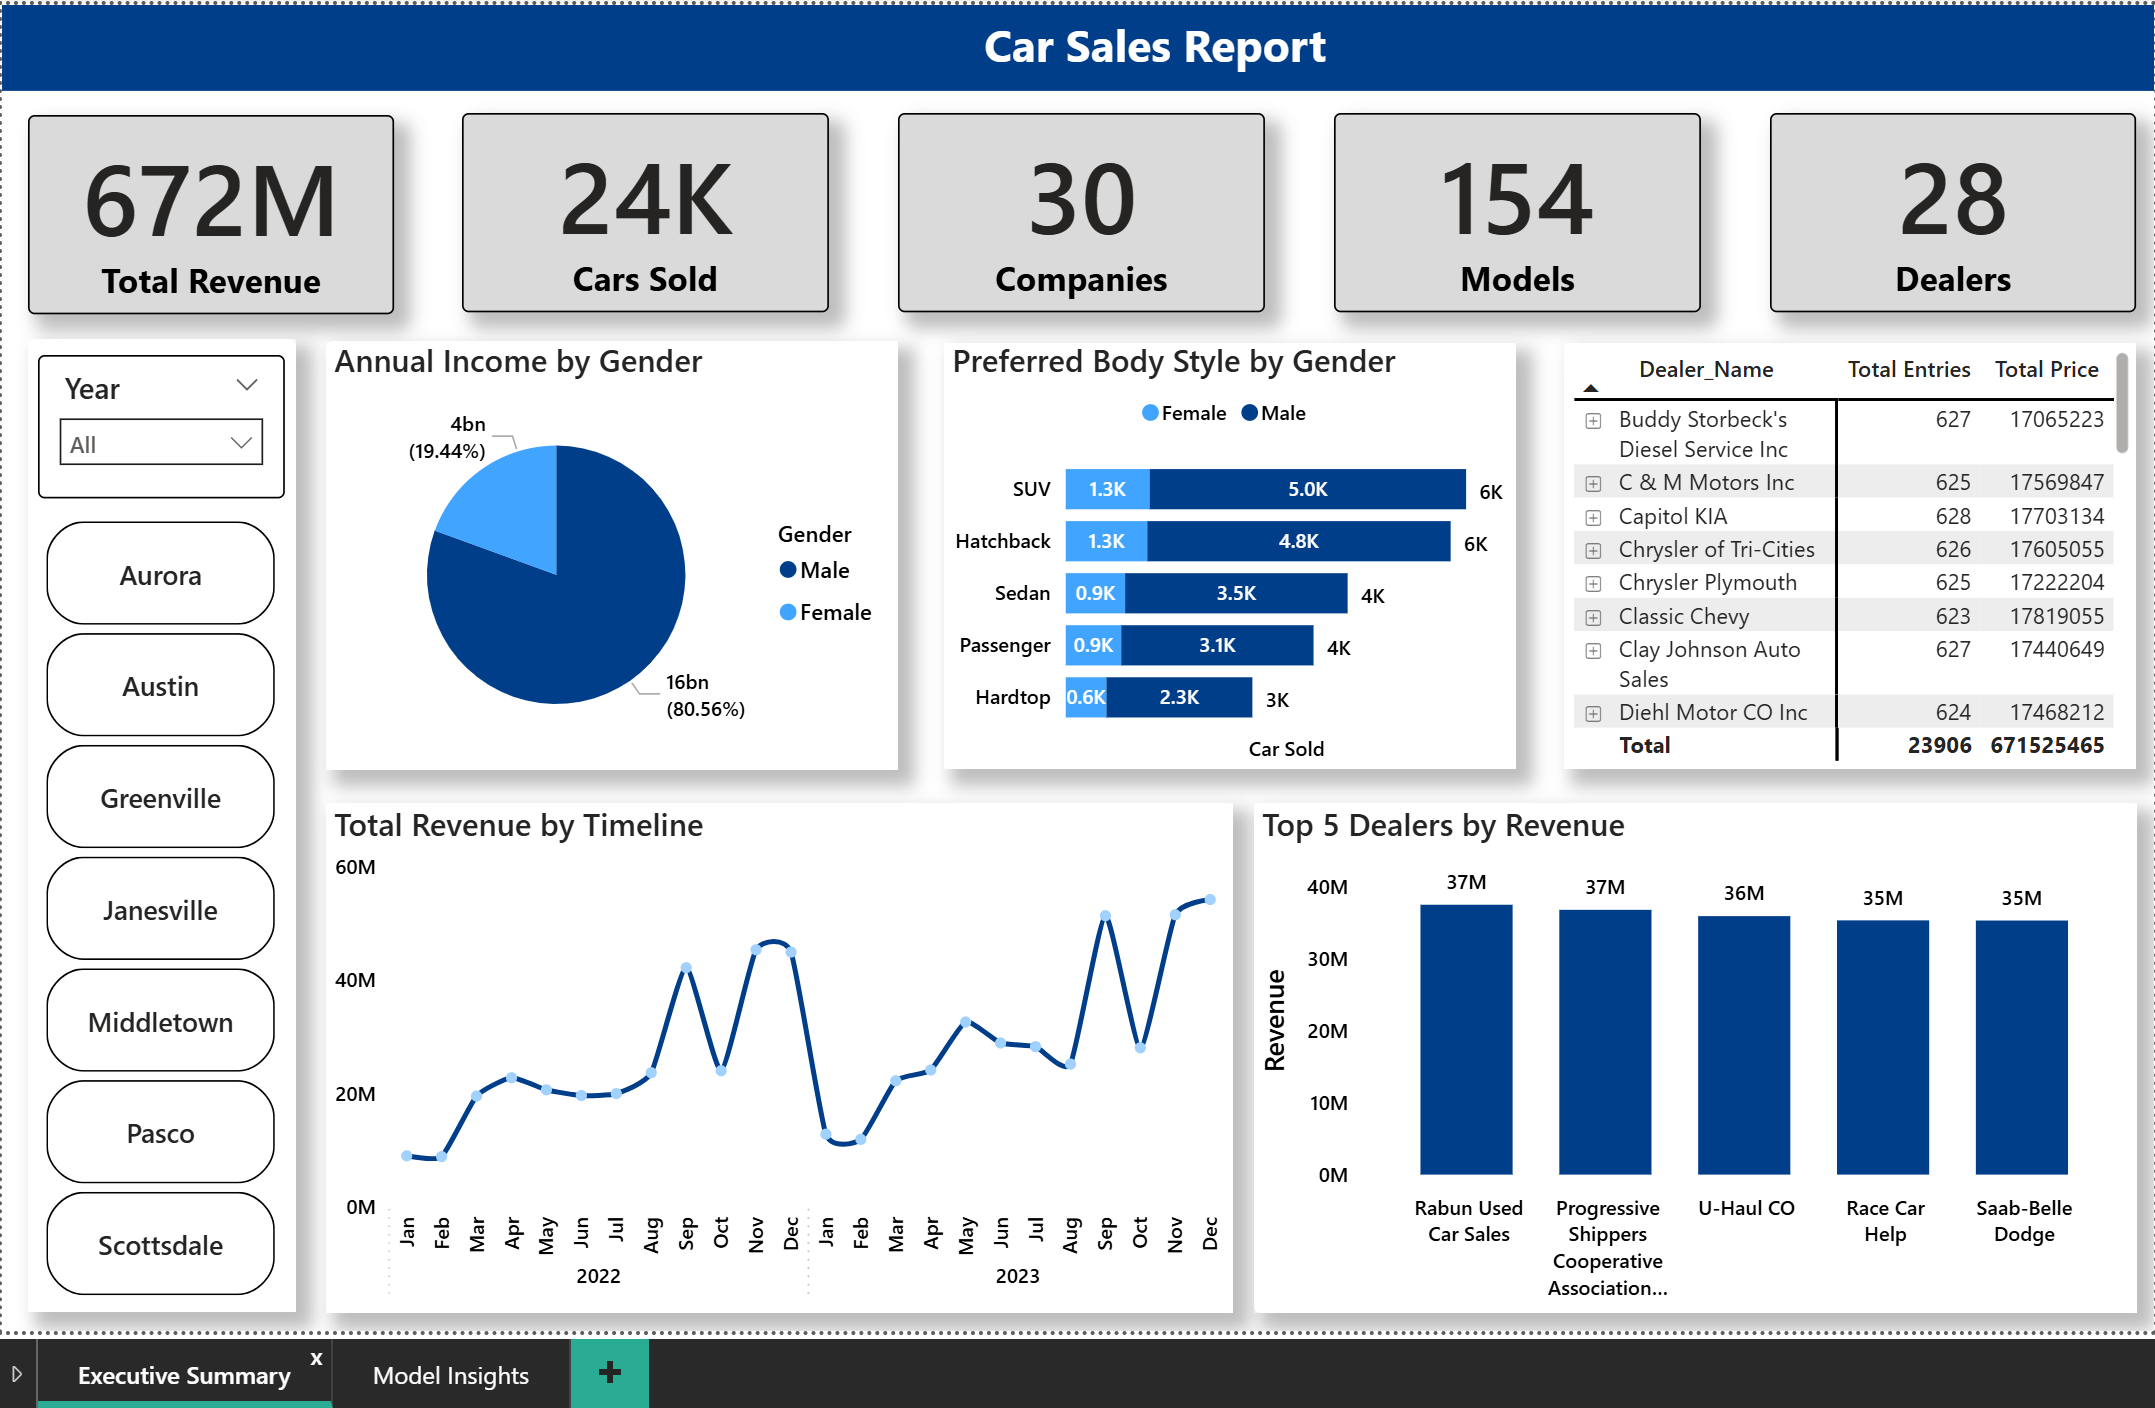

The dashboard page shown, as its layout file describes it:
{"tool":"powerbi","page":{"name":"Executive Summary","canvas":[1290,795],"ordinal":0},"visuals":[{"type":"textbox","box":[0,0,1390.2,51.4],"z":0},{"type":"card","fields":{"Values":["Octro.Total Entries"]},"box":[276.3,64.5,220,119.5],"z":1000},{"type":"card","fields":{"Values":["Octro.Total Price"]},"box":[15.4,65.5,219.7,119.5],"z":2000},{"type":"card","fields":{"Values":["Octro.Company Count"]},"box":[537.6,64.7,220,119.5],"z":3000},{"type":"shape","box":[15.4,200.4,160.6,583.3],"z":4000},{"type":"card","fields":{"Values":["Octro.Dealer Count"]},"box":[1060,64.2,219.7,119.5],"z":5000},{"type":"card","fields":{"Values":["Octro.Model Count"]},"box":[798.8,65.2,220,119.5],"z":6000},{"type":"slicer","fields":{"Values":["Date Table.Year"]},"box":[21.8,209.4,147.8,86.1],"z":7000},{"type":"advancedSlicerVisual","fields":{"Values":["Octro.City"]},"box":[21.8,304.5,147.8,474.1],"z":8000},{"type":"shape","box":[194,201.7,343.1,257],"z":9000},{"type":"shape","box":[565.3,203,343.1,255.7],"z":10000},{"type":"shape","box":[936.7,203,343.1,255.7],"z":11000},{"type":"pieChart","title":"Annual Income by Gender","fields":{"Category":["Octro.Gender"],"Y":["Sum(Octro.Annual Income)"]},"box":[194,200.4,343.1,258.3],"z":12000},{"type":"barChart","title":"Preferred Body Style by Gender","fields":{"Category":["Octro.Body Style"],"Y":["Octro.Female Count","Octro.Male Count"]},"box":[565.3,200.4,343.1,258.3],"z":13000},{"type":"pivotTable","fields":{"Rows":["Octro.Dealer_Name","Octro.Body Style","Octro.Gender"],"Values":["Octro.Total Entries","Octro.Total Price"]},"box":[937.9,203,343.1,255.7],"z":14000},{"type":"shape","box":[194,478,543.5,305.8],"z":14001},{"type":"shape","box":[750.4,478,529.4,305.8],"z":14002},{"type":"lineChart","title":"Total Revenue by  Timeline","fields":{"Category":["Date Table.Year","Date Table.Month Name"],"Y":["Octro.Total Price"]},"box":[194,478,543.5,305.8],"z":14003},{"type":"columnChart","title":"Top 5 Dealers by Revenue","fields":{"Category":["Octro.Dealer_Name"],"Y":["Octro.Total Price"]},"box":[750.4,478,529.4,305.8],"z":14004}]}

Visuals, with their boxes on the page's 1290x795 design canvas (x1, y1, x2, y2). These are canvas units, not pixel positions in the 2155x1408 screenshot, which may show the page scaled, cropped or inside an application window:
textbox: x1=0, y1=0, x2=1390, y2=51
card - Octro.Total Entries: x1=276, y1=64, x2=496, y2=184
card - Octro.Total Price: x1=15, y1=66, x2=235, y2=185
card - Octro.Company Count: x1=538, y1=65, x2=758, y2=184
shape: x1=15, y1=200, x2=176, y2=784
card - Octro.Dealer Count: x1=1060, y1=64, x2=1280, y2=184
card - Octro.Model Count: x1=799, y1=65, x2=1019, y2=185
slicer - Date Table.Year: x1=22, y1=209, x2=170, y2=296
advancedSlicerVisual - Octro.City: x1=22, y1=304, x2=170, y2=779
shape: x1=194, y1=202, x2=537, y2=459
shape: x1=565, y1=203, x2=908, y2=459
shape: x1=937, y1=203, x2=1280, y2=459
"Annual Income by Gender" pieChart: x1=194, y1=200, x2=537, y2=459
"Preferred Body Style by Gender" barChart: x1=565, y1=200, x2=908, y2=459
pivotTable - Octro.Dealer_Name x Octro.Body Style: x1=938, y1=203, x2=1281, y2=459
shape: x1=194, y1=478, x2=738, y2=784
shape: x1=750, y1=478, x2=1280, y2=784
"Total Revenue by  Timeline" lineChart: x1=194, y1=478, x2=738, y2=784
"Top 5 Dealers by Revenue" columnChart: x1=750, y1=478, x2=1280, y2=784
